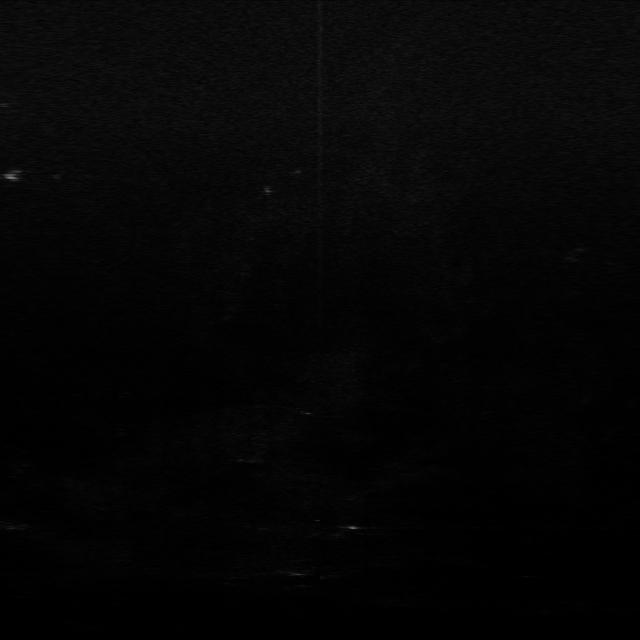rov: (1, 165, 30, 184)
